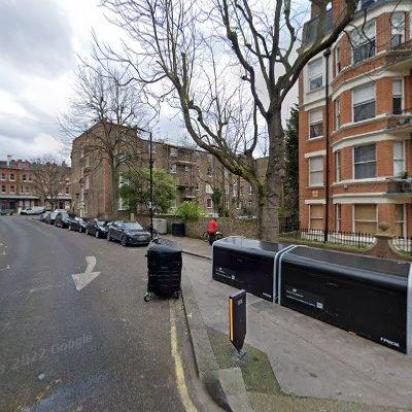stationary-bicycle-onstreet: (202, 231, 224, 245)
stationary-car-onstreet: (105, 221, 151, 247), (86, 218, 110, 240), (68, 216, 90, 234), (54, 209, 74, 228), (41, 208, 51, 222)
stationary-light-truck-onstreet: (19, 206, 41, 214)
